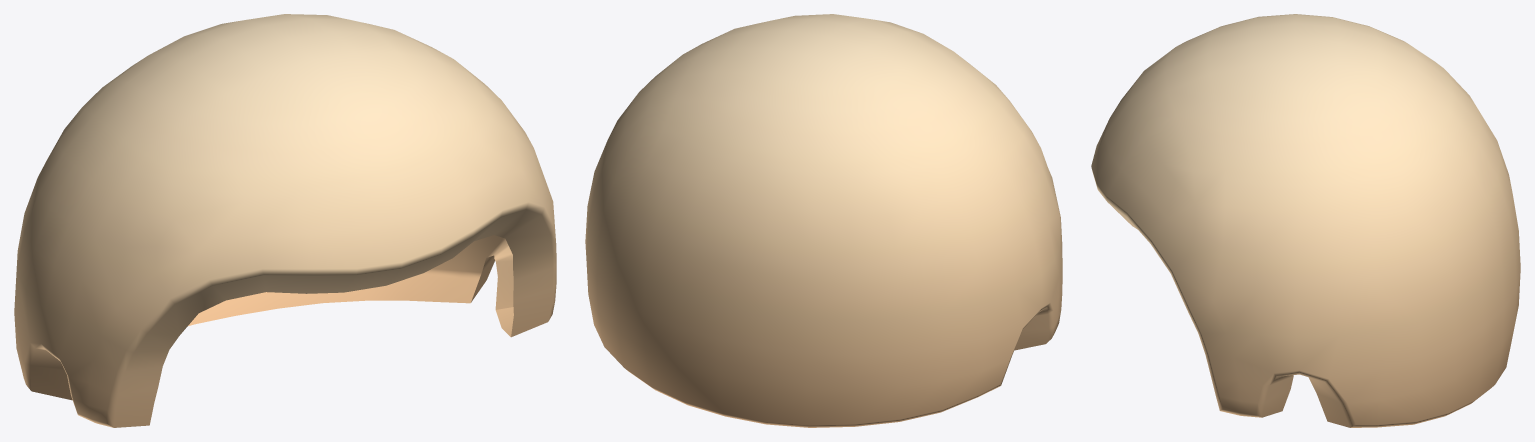
Rendered from Hairstyle_Male_16.glb.
3 renders of one model, left to right at view 1: azimuth 30°, elevation 25°; view 2: azimuth 150°, elevation 25°; view 3: azimuth 270°, elevation 25°, orthographic. The views are drawn at different scales.
Parts seen in each view (by area): view 1: Hairstyle_Male_16; view 2: Hairstyle_Male_16; view 3: Hairstyle_Male_16.
Boxes of the visible parts, x1,y1,x2,y2 form: Hairstyle_Male_16: (14,14,556,427); Hairstyle_Male_16: (585,14,1062,427); Hairstyle_Male_16: (1091,14,1520,427).
Bounding box in the file's own units: 0.605 × 0.4164 × 0.5061.
1 material, 1 textured.
